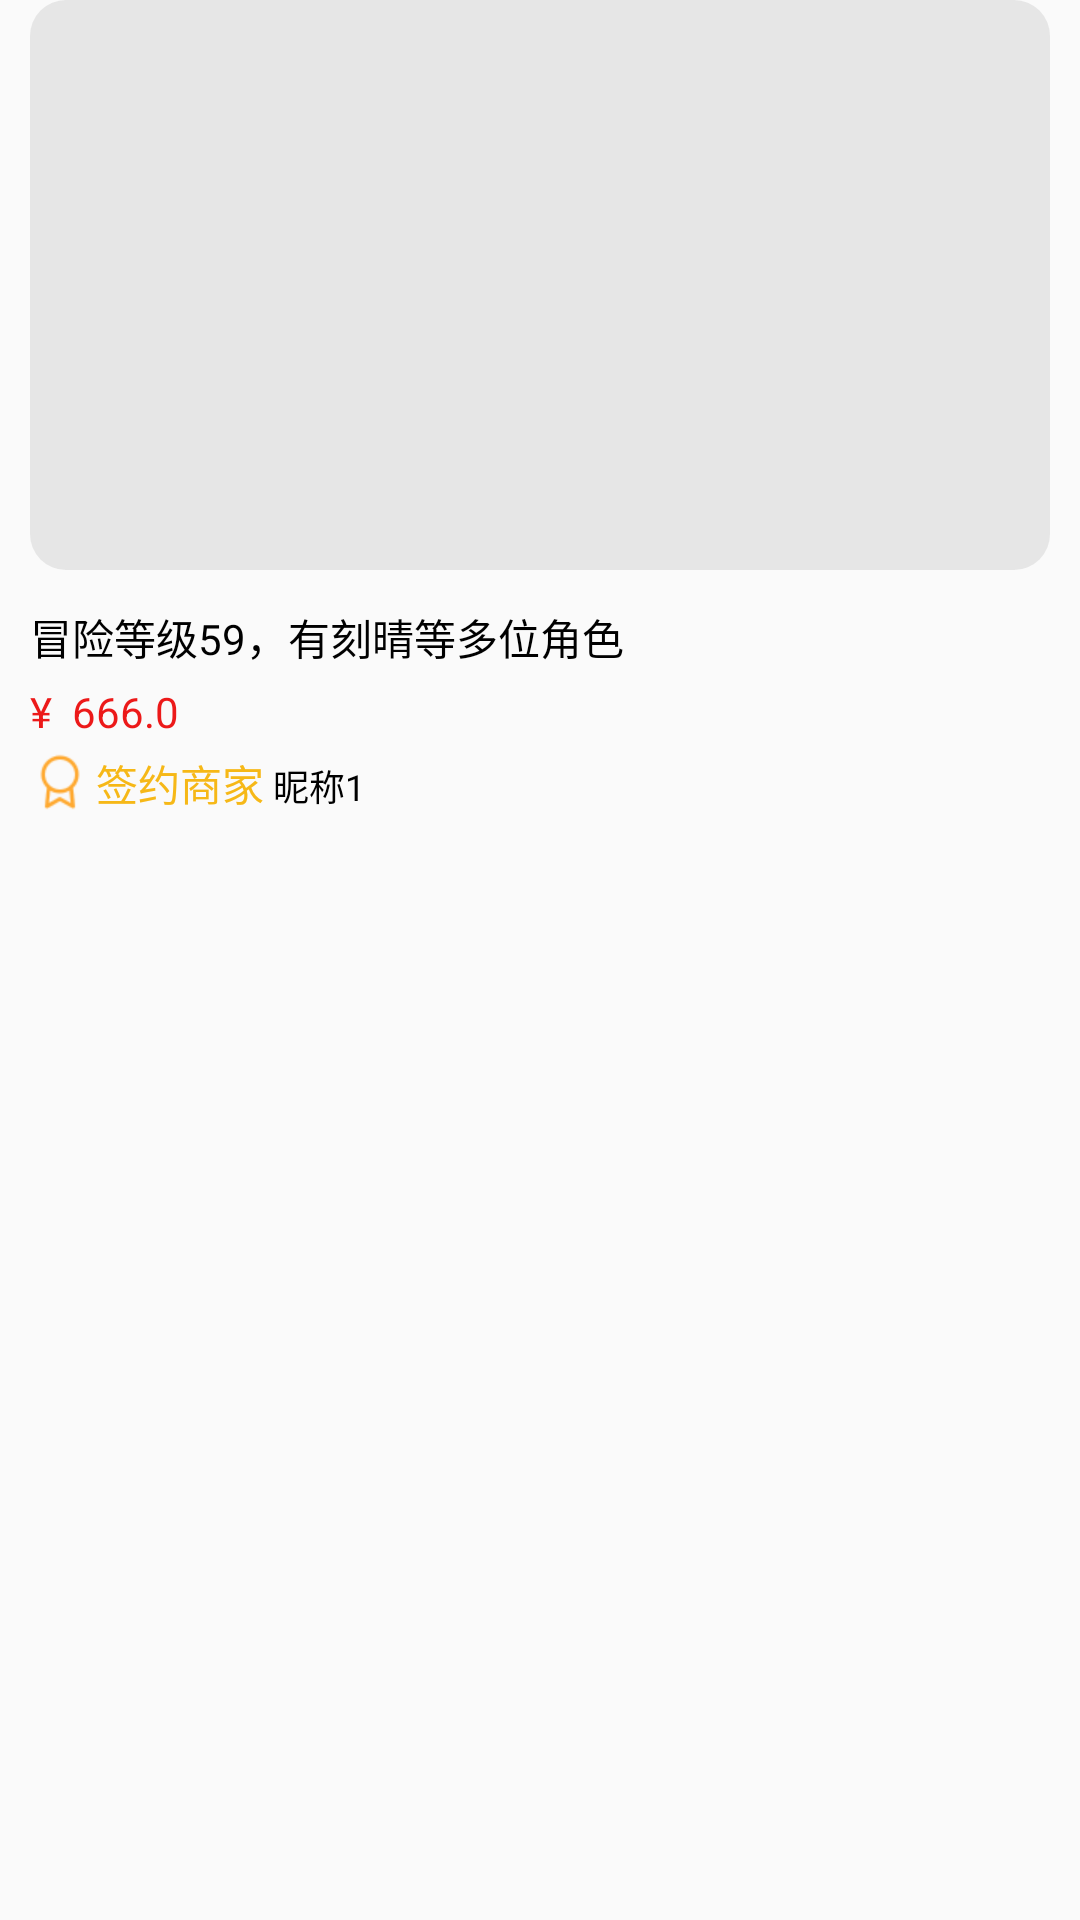

Icons on this 1080*1920 Android screen, each with its box as (x1, y1, x2, y2):
medal: (40, 755, 80, 809)
